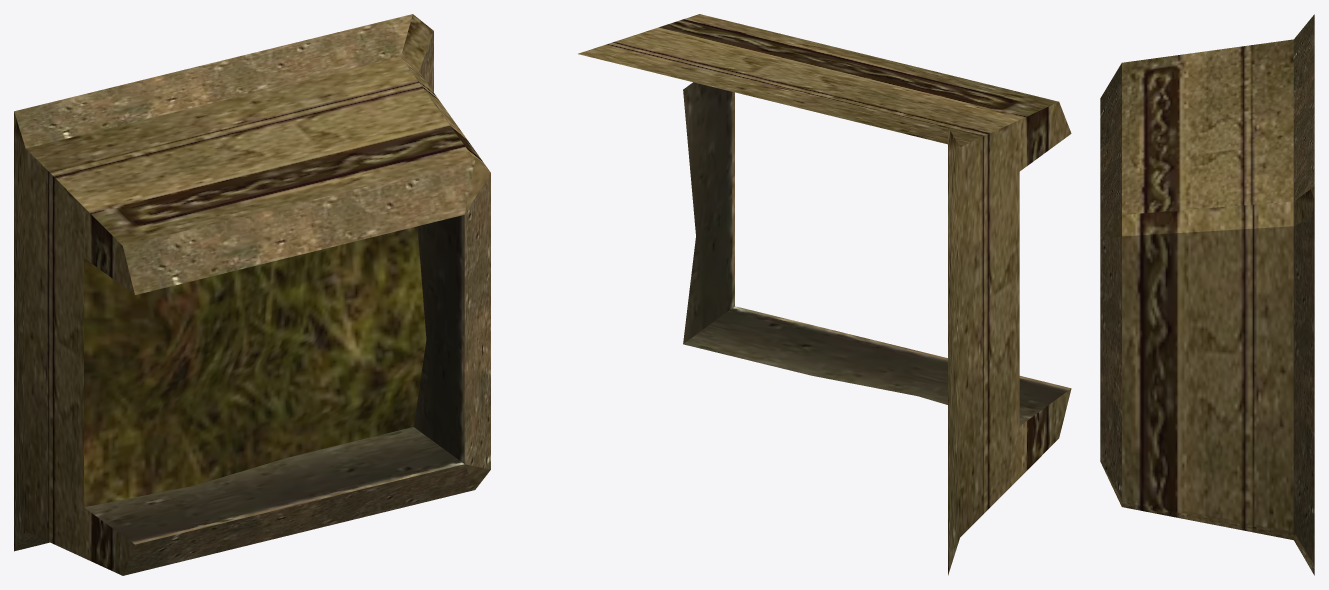
3 renders of one model, left to right at view 1: azimuth 30°, elevation 25°; view 2: azimuth 150°, elevation 25°; view 3: azimuth 270°, elevation 25°, orthographic. The views are drawn at different scales.
Visible parts, largest first — view 1: model_Object24; view 2: model_Object24; view 3: model_Object24.
Boxes of the visible parts, x1,y1,x2,y2 form: model_Object24: (14,14,490,575); model_Object24: (578,14,1071,575); model_Object24: (1100,14,1314,575).
Bounding box in the file's own units: 2 × 2 × 0.9968.
2 materials, 2 textured.
